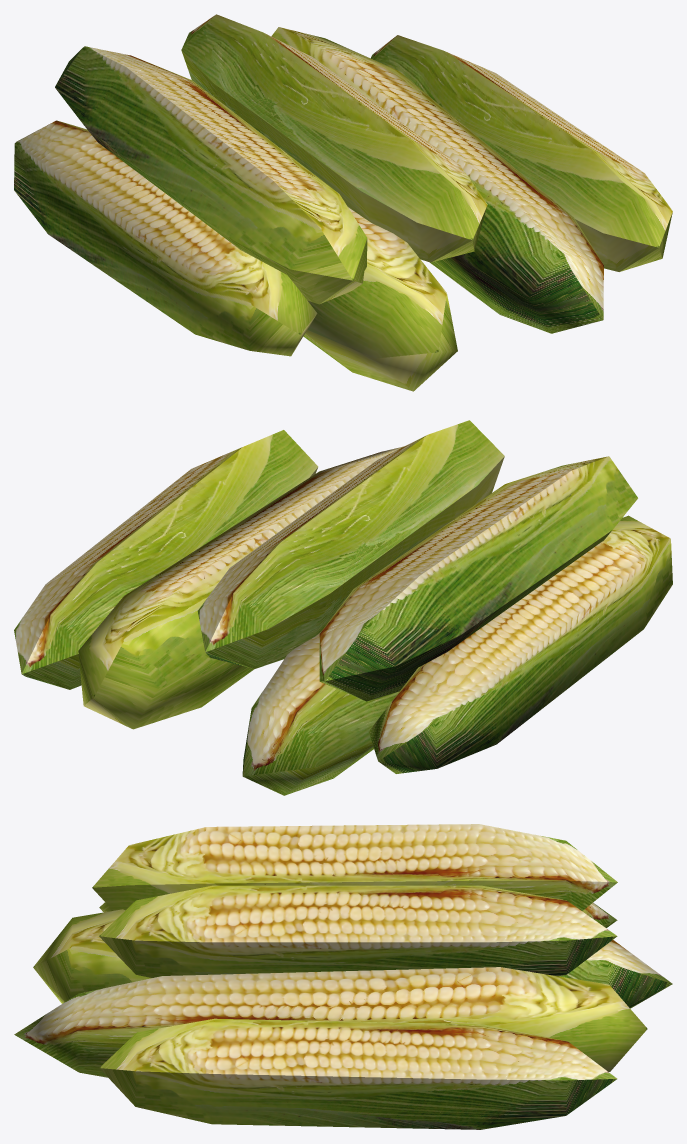
File: corn.FBX
The picture shows the model from 3 angles, top to bottom: view 1: azimuth 30°, elevation 25°; view 2: azimuth 150°, elevation 25°; view 3: azimuth 270°, elevation 25°; orthographic projection. The views are drawn at different scales.
Parts seen in each view (by area): view 1: CornCob; view 2: CornCob; view 3: CornCob.
Boxes of the visible parts, left/top/right/bottom form: CornCob: left=14, top=14, right=672, bottom=391; CornCob: left=14, top=420, right=672, bottom=795; CornCob: left=14, top=824, right=672, bottom=1129.
Size of the model in its own units: 65.23 by 27.89 by 90.3.
Materials: 1 (1 with a texture image).
